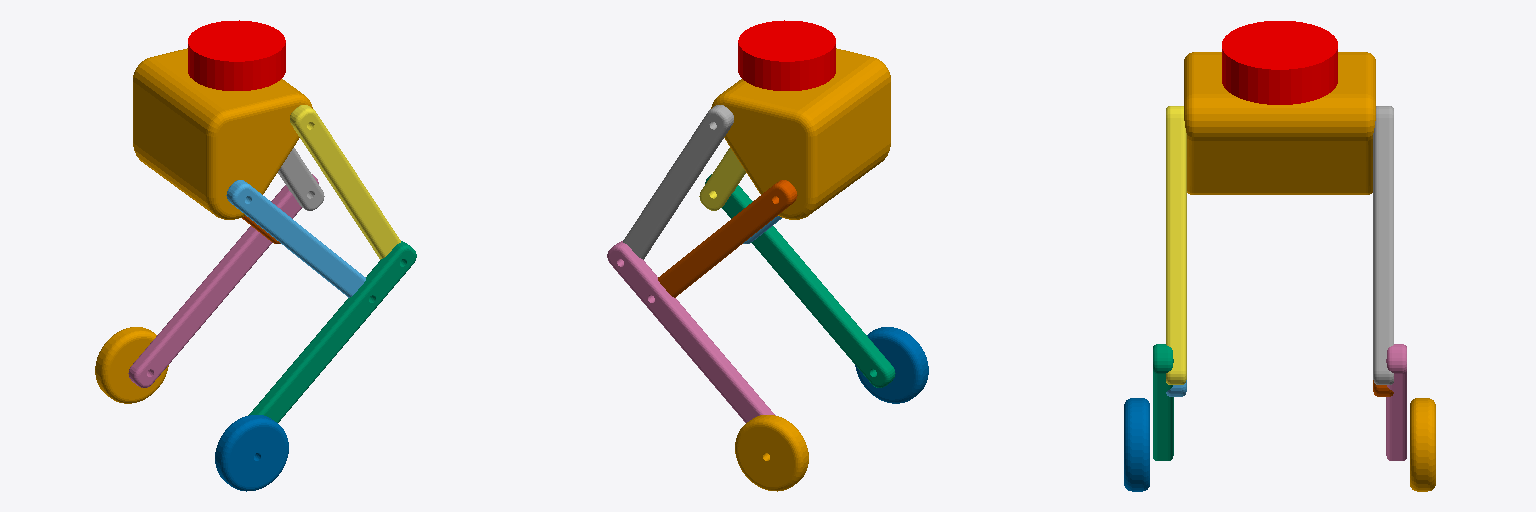
URDF robot description (TestBot):
<?xml version="1.0"?>
<robot name="TestBot">

<!-- Base Link: Torso -->
<link name ="Body">
    <visual>
		<geometry>
			<mesh filename="Kobot/robotBody.obj"  scale="0.01 0.01 0.01" />
		</geometry>	 
    </visual>
    <collision>	
      <geometry>
        <mesh filename="Kobot/robotBody.obj"  scale="0.01 0.01 0.01" />
      </geometry>
    </collision>
	<inertial>
		<mass value="0.4"/>
		<inertia ixx="0.001148" ixy="0.0" ixz="0.0" iyy="0.0008363" iyz="0.0" izz="0.001148"/>
	</inertial>
</link>

 <!-- Join Left Leg   -->
<link name ="leftLeg1">
    <visual>
		<origin  xyz="0 0 -0.09"/>
		<geometry>
			<mesh filename="Kobot/leftLeg1.obj"  scale="0.01 0.01 0.01" />
		</geometry>
    </visual>
    <collision>
		<origin  xyz="0 0 -0.09"/>
		<geometry>
			<mesh filename="Kobot/leftLeg1.obj"  scale="0.01 0.01 0.01" />
		</geometry>	
    </collision>
	<inertial>
		<mass value="0.078"/>
		<inertia ixx="0.0002829" ixy="0.0" ixz="0.0" iyy="0.000005408" iyz="0.0" izz="0.0002849"/>
	</inertial>
  </link>
  
<joint name="body_to_LLeg1" type="revolute">
    <parent link="Body"/>
    <child link="leftLeg1"/>
    <origin xyz="-0.02 -0.08 -0.035" rpy="0 -0.785398 0"/>
    <axis xyz="0 1 0"/>
	<limit effort="30" velocity="1" />
	<joint_properties damping="0.002" friction="0.003"/>
 </joint>
  
<link name ="leftLeg2">
    <visual>
		<origin  xyz="0 0 -0.06"/>
		<geometry>
			<mesh filename="Kobot/leftLeg3.obj"  scale="0.01 0.01 0.01" />
		</geometry>
    </visual>
    <collision>
		<origin  xyz="0 0 -0.06"/>
		<geometry>
			<mesh filename="Kobot/leftLeg3.obj"  scale="0.01 0.01 0.01" />
		</geometry>
    </collision>
	<inertial>
		<mass value="0.095"/>
		<inertia ixx="0.0005048" ixy="0.0" ixz="0.0" iyy="0.000006587" iyz="0.0" izz="0.0005073"/>
	</inertial>
  </link>
  
 <joint name="LLeg1_to_LLeg2" type="revolute">
    <parent link="leftLeg1"/>
    <child link="leftLeg2"/>
    <origin xyz="0 -0.01 -0.18" rpy="0 1.6308357 0"/>
    <axis xyz="0 1 0"/>
	<limit effort="30" velocity="1" />
	<joint_properties damping="0.002" friction="0.003"/>
  </joint>
  
  
<link name ="leftLeg3">
    <visual>
		<origin  xyz="0 0 -0.09"/>
		<geometry>
			<mesh filename="Kobot/leftLeg2.obj"  scale="0.01 0.01 0.01" />
		</geometry>
    </visual>
	<collision>
		<origin  xyz="0 0 -0.09"/>
		<geometry>
			<mesh filename="Kobot/leftLeg2.obj"  scale="0.01 0.01 0.01" />
		</geometry>
    </collision>
	<inertial>
		<mass value="0.081"/>
		<inertia ixx="0.0003167" ixy="0.0" ixz="0.0" iyy="0.000005616" iyz="0.0" izz="0.0003188"/>
	</inertial>
 </link>
  
<joint name="LLeg2_to_LLeg3" type="revolute">
    <parent link="leftLeg2"/>
    <child link="leftLeg3"/>
    <origin xyz="0 0.01 0.045" rpy="0 1.752624 0"/>
    <axis xyz="0 1 0"/>
	<limit effort="30" velocity="1" />
	<joint_properties damping="0.002" friction="0.003"/>
</joint>
  
  
<link name ="leftWheel">
    <visual>
		<geometry>
			<mesh filename="Kobot/leftWheel.obj"  scale="0.01 0.01 0.01" />
		</geometry>
    </visual>
    <collision>
		<geometry>
			<mesh filename="Kobot/leftWheel.obj"  scale="0.01 0.01 0.01" />
		</geometry>
    </collision>
	<inertial>
		<mass value="0.083"/>
		<inertia ixx="0.0001103" ixy="0.0" ixz="0.0" iyy="0.0001103" iyz="0.0" izz="0.0002151"/>
	</inertial>
  </link>
  
<joint name="LLeg2_to_wheel" type="revolute">
    <parent link="leftLeg2"/>
    <child link="leftWheel"/>
    <origin xyz="0 -0.02 -0.18" rpy="0 0 0 "/>
    <axis xyz="0 1 0"/>
	<limit effort="3000" velocity="200" />
	<joint_properties damping="0.002" friction="0.003"/>
</joint>
  
  
  <!-- Join Right Leg  -->
<link name ="rightLeg1"> 
    <visual>
		<origin  xyz="0 0 -0.09"/>
		<geometry>
			<mesh filename="Kobot/rightLeg1.obj"  scale="0.01 0.01 0.01" />
		</geometry>
    </visual>
    <collision>
		<origin  xyz="0 0 -0.09"/>
		<geometry>
			<mesh filename="Kobot/rightLeg1.obj"  scale="0.01 0.01 0.01" />
		</geometry>	
    </collision>	
	<inertial>
		<mass value="0.078"/>
		<inertia ixx="0.0002829" ixy="0.0" ixz="0.0" iyy="0.000005408" iyz="0.0" izz="0.0002849"/>
	</inertial>
  </link>
    
<joint name="body_to_RLeg1" type="revolute">
    <parent link="Body"/>
    <child link="rightLeg1"/>
    <origin xyz="-0.02 0.08 -0.035" rpy="0 -0.785398 0"/>
    <axis xyz="0 1 0"/>
	<limit effort="30" velocity="1" />
	<joint_properties damping="0.002" friction="0.003"/>
</joint>

<link name ="rightLeg2">
    <visual>
		<origin  xyz="0 0 -0.06"/>
		<geometry>
			<mesh filename="Kobot/rightLeg3.obj"  scale="0.01 0.01 0.01" />
		</geometry>
    </visual>
    <collision>
		<origin  xyz="0 0 -0.06"/>
		<geometry>
			<mesh filename="Kobot/rightLeg3.obj"  scale="0.01 0.01 0.01" />
		</geometry>
    </collision>
	<inertial>
		<mass value="0.095"/>
		<inertia ixx="0.0005048" ixy="0.0" ixz="0.0" iyy="0.000006587" iyz="0.0" izz="0.0005073"/>
	</inertial>
</link>
  
<joint name="RLeg1_to_RLeg2" type="revolute">
    <parent link="rightLeg1"/>
    <child link="rightLeg2"/>
    <origin xyz="0 0.01 -0.18" rpy="0 1.6308357 0"/>
    <axis xyz="0 1 0"/>
	<limit effort="30" velocity="1" />
	<joint_properties damping="0.002" friction="0.003"/>
</joint>
  
<link name ="rightLeg3">
    <visual>
		<origin  xyz="0 0 -0.09"/>
		<geometry>
			<mesh filename="Kobot/rightLeg2.obj"  scale="0.01 0.01 0.01" />
		</geometry>
    </visual>
    <collision>
		<origin  xyz="0 0 -0.09"/>
		<geometry>
			<mesh filename="Kobot/rightLeg2.obj"  scale="0.01 0.01 0.01" />
		</geometry>
    </collision>
	<inertial>
		<mass value="0.081"/>
		<inertia ixx="0.0003167" ixy="0.0" ixz="0.0" iyy="0.000005616" iyz="0.0" izz="0.0003188"/>
	</inertial>
</link>
  
<joint name="RLeg2_to_RLeg3" type="revolute">
    <parent link="rightLeg2"/>
    <child link="rightLeg3"/>
    <origin xyz="0 -0.01 0.045" rpy="0 1.752624 0"/>
    <axis xyz="0 1 0"/>
	<limit effort="30" velocity="1" />
	<joint_properties damping="0.002" friction="0.003"/>
</joint>
  
<link name ="rightWheel">
    <visual>
		<geometry>
			<mesh filename="Kobot/rightWheel.obj"  scale="0.01 0.01 0.01" />
		</geometry>
    </visual>
    <collision>
		<geometry>
			<mesh filename="Kobot/rightWheel.obj"  scale="0.01 0.01 0.01" />
		</geometry>
    </collision>
	<inertial>
		<mass value="0.083"/>
		<inertia ixx="0.0001103" ixy="0.0" ixz="0.0" iyy="0.0001103" iyz="0.0" izz="0.0002151"/>
	</inertial>
</link>
  
<joint name="RLeg2_to_wheel" type="revolute">
    <parent link="rightLeg2"/>
    <child link="rightWheel"/>
    <origin xyz="0 0.02 -0.18" rpy="0 0 0 "/>
    <axis xyz="0 1 0"/>
	<limit effort="3000" velocity="200" />
	<joint_properties damping="0.002" friction="0.003"/>
</joint>
 
<!-- Add weight on the top of Torso -->
<link name="weight">
	<visual>
		<origin rpy="0 0 0" xyz="0.02 0 0"/>
		<geometry>
			<cylinder radius="0.045" length="0.03" />
		</geometry>
		<material name="red">
			<color rgba="1 0 0 1"/>
		</material>
	</visual>
	<collision>
		<origin rpy="0 0 0" xyz="0.02 0 0"/>
		<geometry>
			<cylinder radius="0.05" length="0.04" />
		</geometry>
	</collision>
	<inertial>
		<mass value="0.05"/>
		<inertia ixx="0.00002906" ixy="0.0" ixz="0.0" iyy="0.00002906" iyz="0.0" izz="0.00005062"/>
	</inertial>
			
</link>
	
<joint name="body_to_weight" type="revolute">
    <parent link="Body"/>
    <child link="weight"/>
    <origin xyz="0 0 0.065" rpy="0 0 0 "/>
    <axis xyz="0 0 1"/>
	<limit effort="30" velocity="1" />
	<joint_properties damping="0.002" friction="0.003"/>
 </joint>
  
</robot>

--- Render facts (derived) ---
3 views of the same robot in one strip: view 1: azimuth 30°, elevation 25°; view 2: azimuth 150°, elevation 25°; view 3: azimuth 270°, elevation 25° (orthographic).
Model TestBot with 10 links and 9 joints (9 revolute), rooted at Body, posed all joints at 0.
Visible links, largest first — view 1: Body, leftLeg2, weight, rightLeg2, leftLeg3, leftWheel, leftLeg1, rightWheel, rightLeg3; view 2: Body, rightLeg2, weight, leftLeg2, rightLeg3, rightWheel, rightLeg1, leftWheel, leftLeg3; view 3: Body, weight, leftLeg3, rightLeg3, leftWheel, rightWheel, leftLeg2, rightLeg2.
Link boxes in pixels (<box>): Body: <box>133,48,312,219</box>; leftLeg2: <box>248,241,416,422</box>; weight: <box>188,20,285,90</box>; rightLeg2: <box>128,174,318,387</box>; leftLeg3: <box>290,105,400,259</box>; leftWheel: <box>215,415,288,491</box>; leftLeg1: <box>226,180,365,297</box>; rightWheel: <box>95,327,168,403</box>; rightLeg3: <box>278,148,324,210</box>; Body: <box>711,48,890,219</box>; rightLeg2: <box>607,241,775,422</box>; weight: <box>738,20,835,90</box>; leftLeg2: <box>705,174,895,387</box>; rightLeg3: <box>623,105,733,259</box>; rightWheel: <box>735,415,808,491</box>; rightLeg1: <box>658,180,797,297</box>; leftWheel: <box>855,327,928,403</box>; leftLeg3: <box>699,148,745,210</box>; Body: <box>1184,52,1375,194</box>; weight: <box>1222,21,1337,104</box>; leftLeg3: <box>1166,106,1186,384</box>; rightLeg3: <box>1373,106,1393,384</box>; leftWheel: <box>1124,398,1149,491</box>; rightWheel: <box>1410,398,1435,491</box>; leftLeg2: <box>1153,344,1173,460</box>; rightLeg2: <box>1386,344,1406,460</box>.
Bounding box of the posed robot: 0.2197 × 0.24 × 0.3977 m (x, y, z).
9 mesh visuals loaded from 9 distinct referenced files (9 OBJ).
